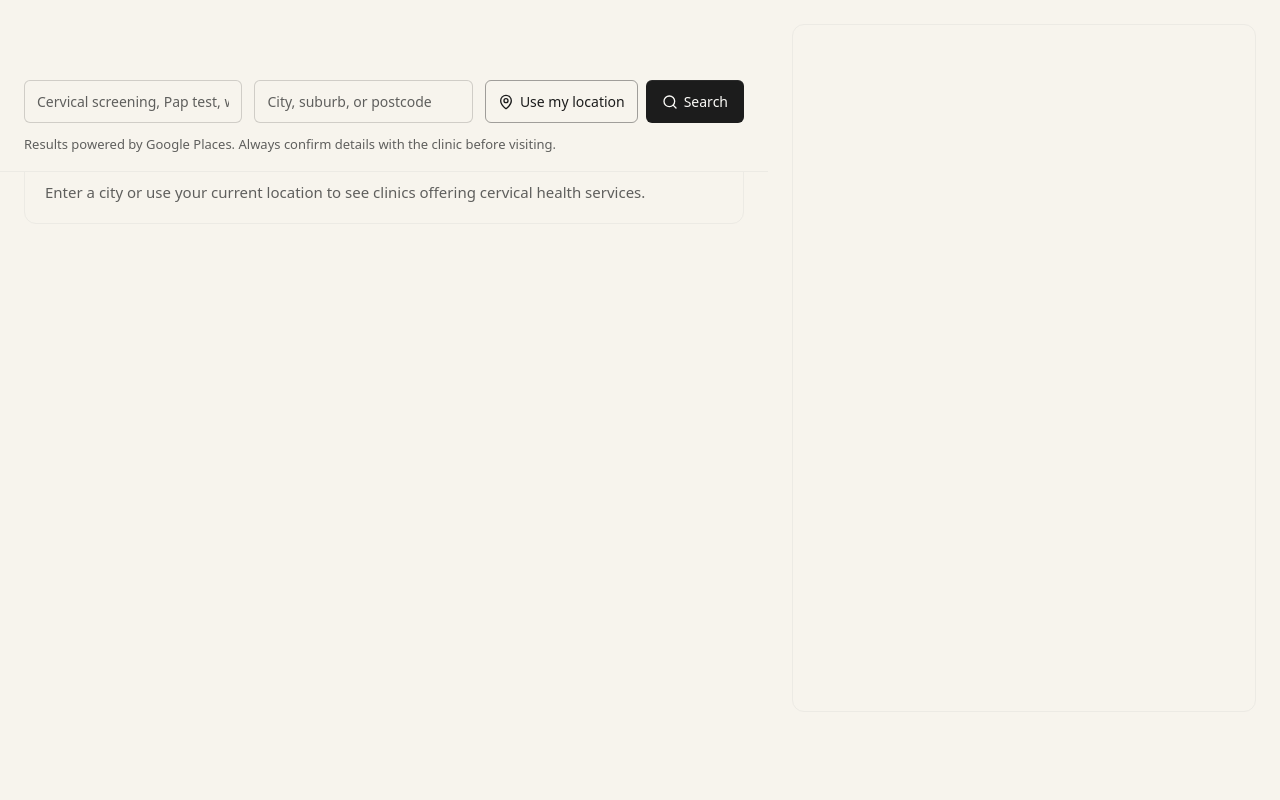
Scenario: ClinicsPage › error state › renders the error state on upstream 502
Step 1. Type "Sydney" into the field with placeholder "City, suburb, or postcode" → (364, 102), box [254, 80, 473, 123]
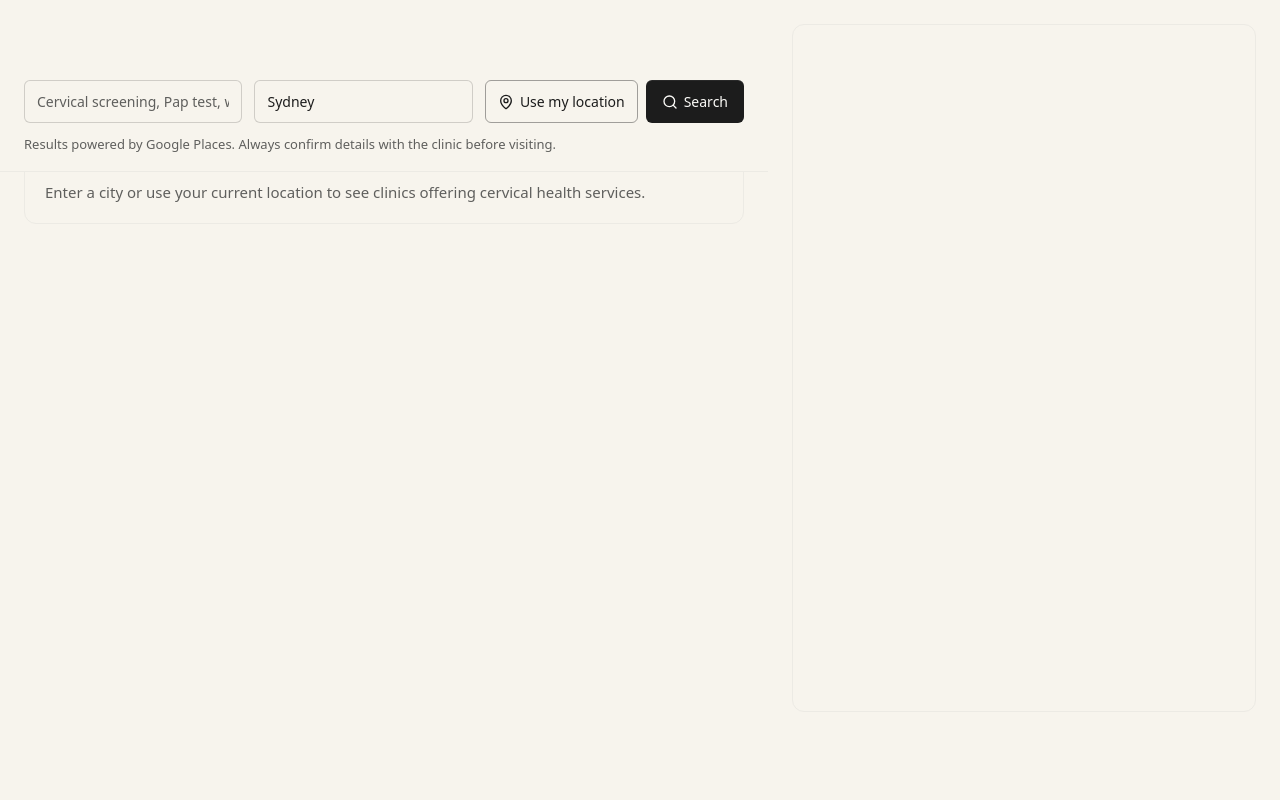
Step 2. Click the button "Search" → (695, 102), box [646, 80, 744, 123]
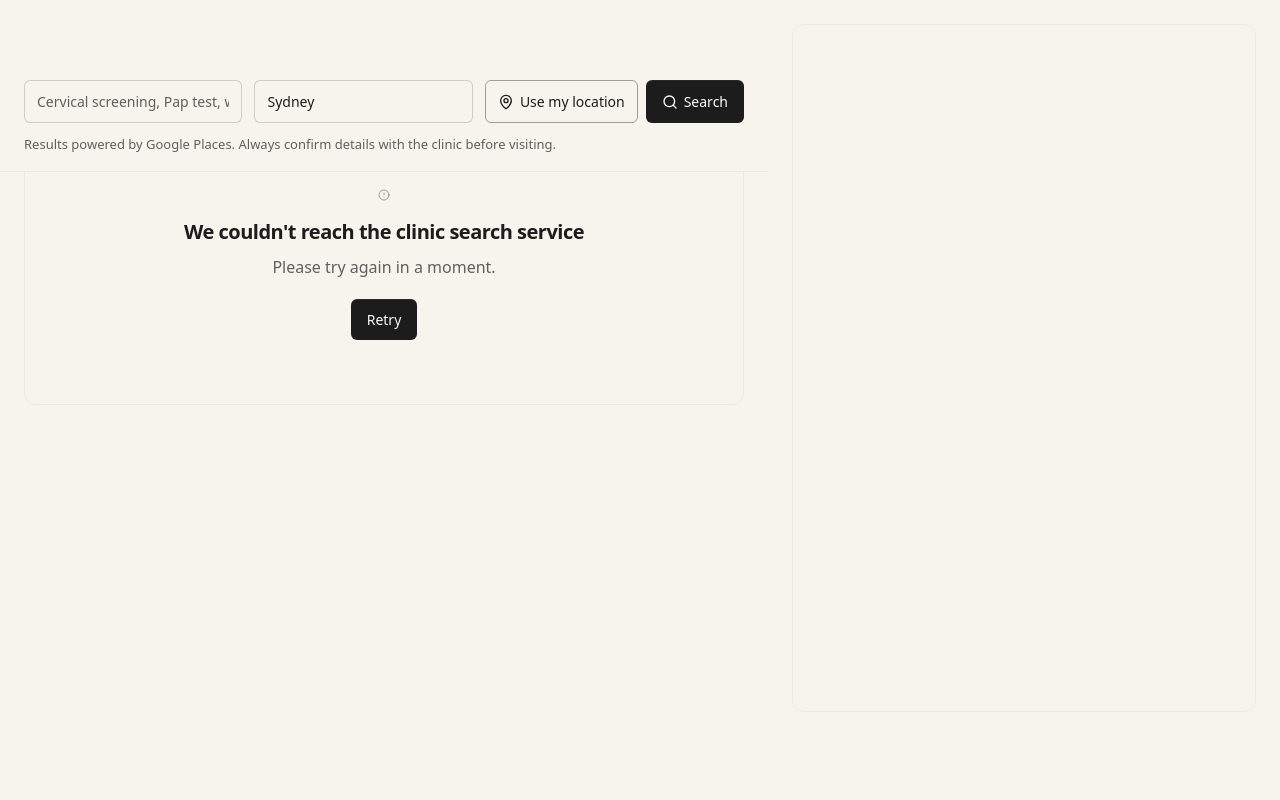
Now the heading "We couldn't reach the clinic search service" is shown, box [184, 216, 584, 246]
